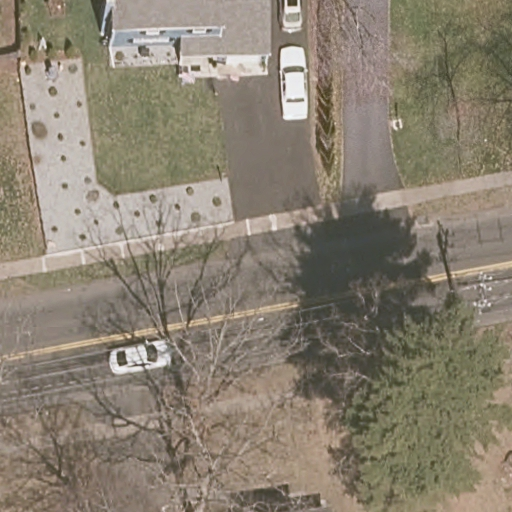DT: (468, 269, 496, 321)
